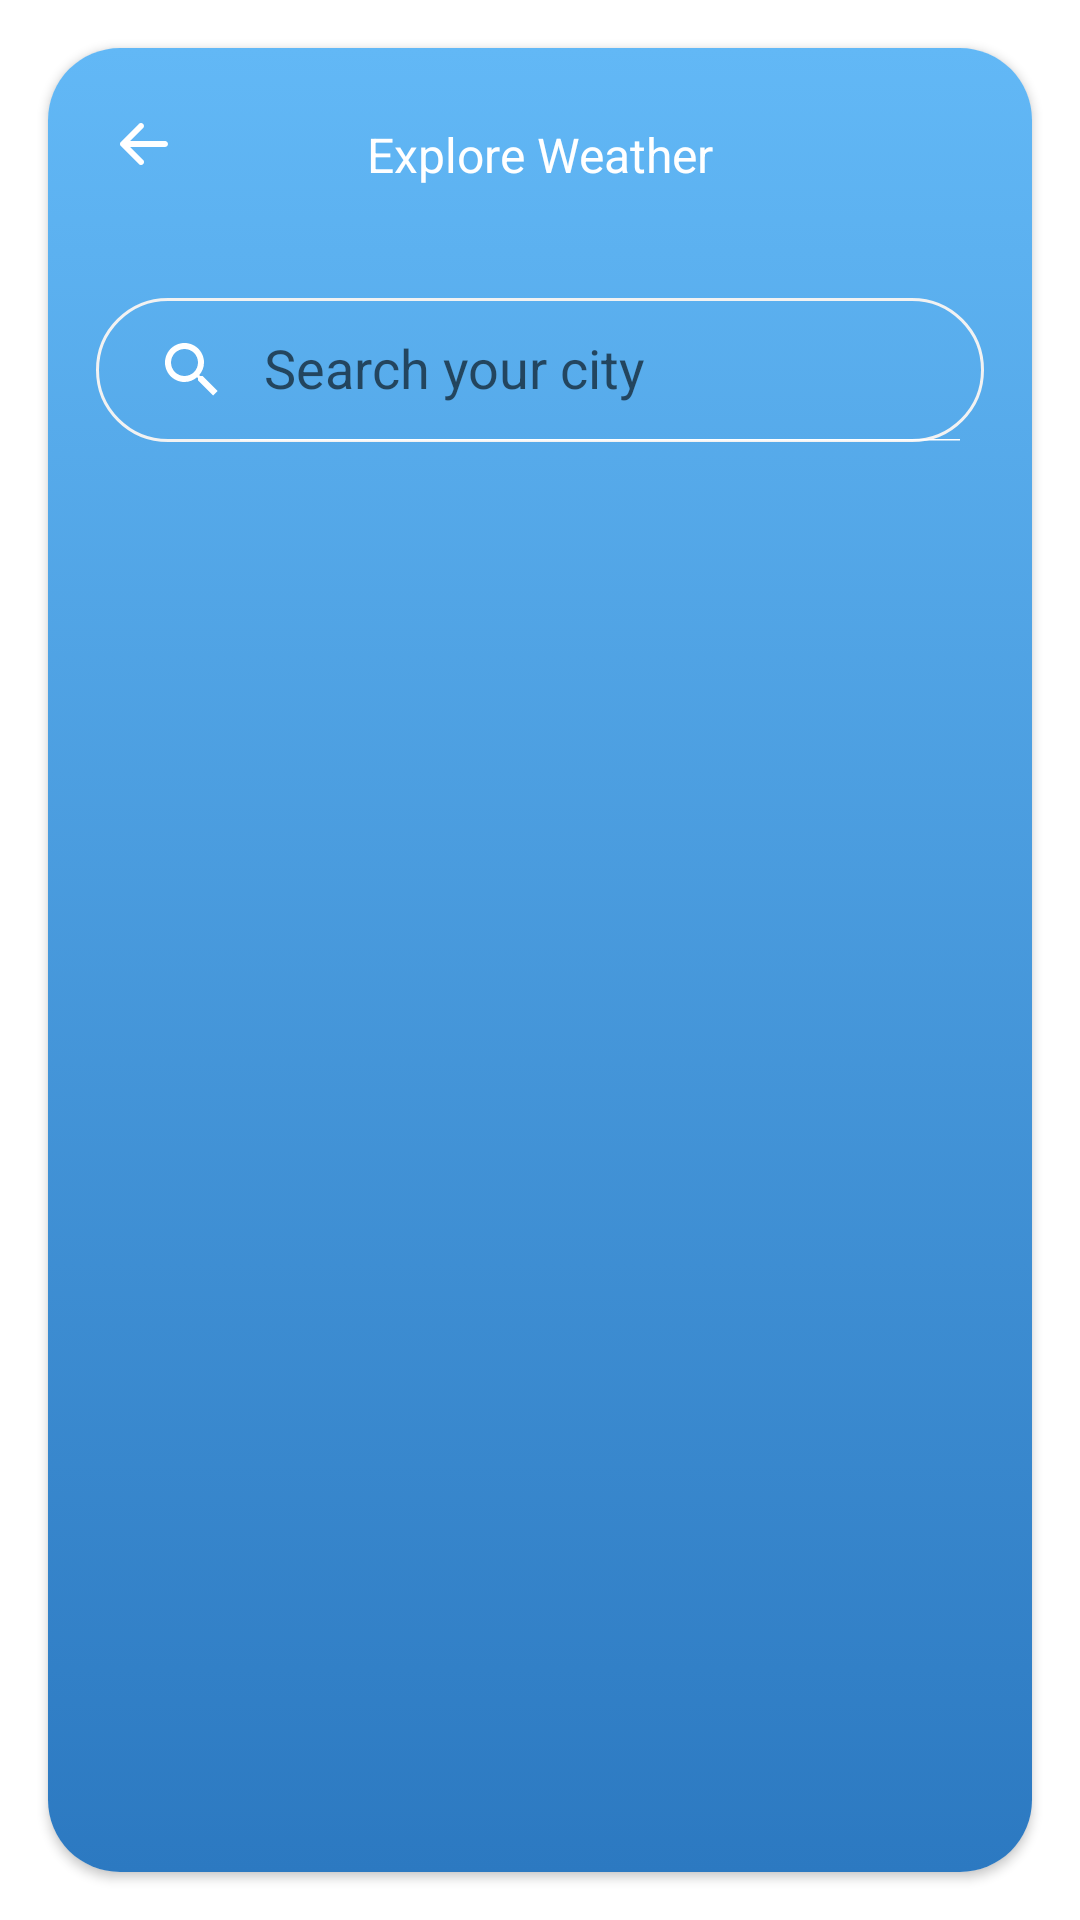

Named icons in this screenshot (1080w x 1920h) and their bounding boxes, bbox(x1, y1, x2, y2):
arrow left: bbox(120, 123, 168, 165)
